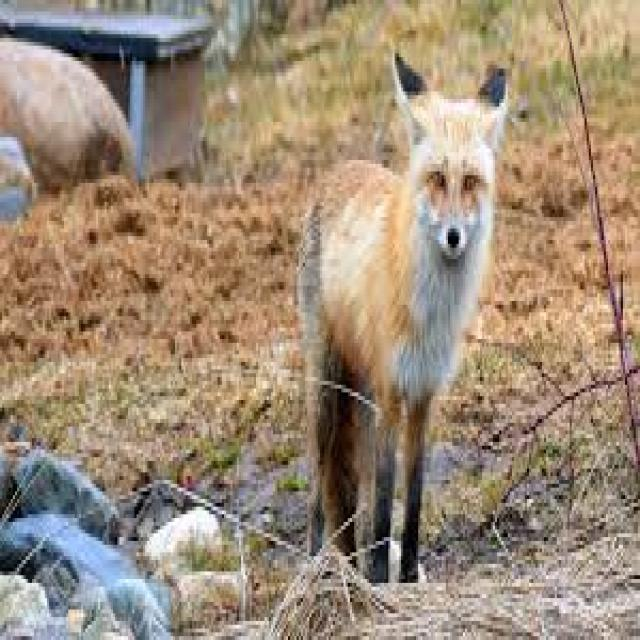fox: (294, 46, 510, 583)
